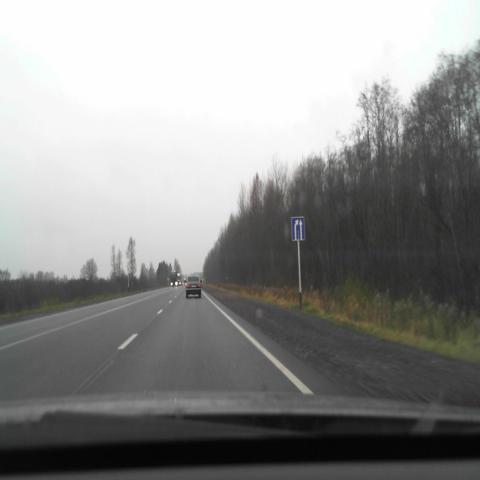5_15_5: (291, 216, 305, 241)
